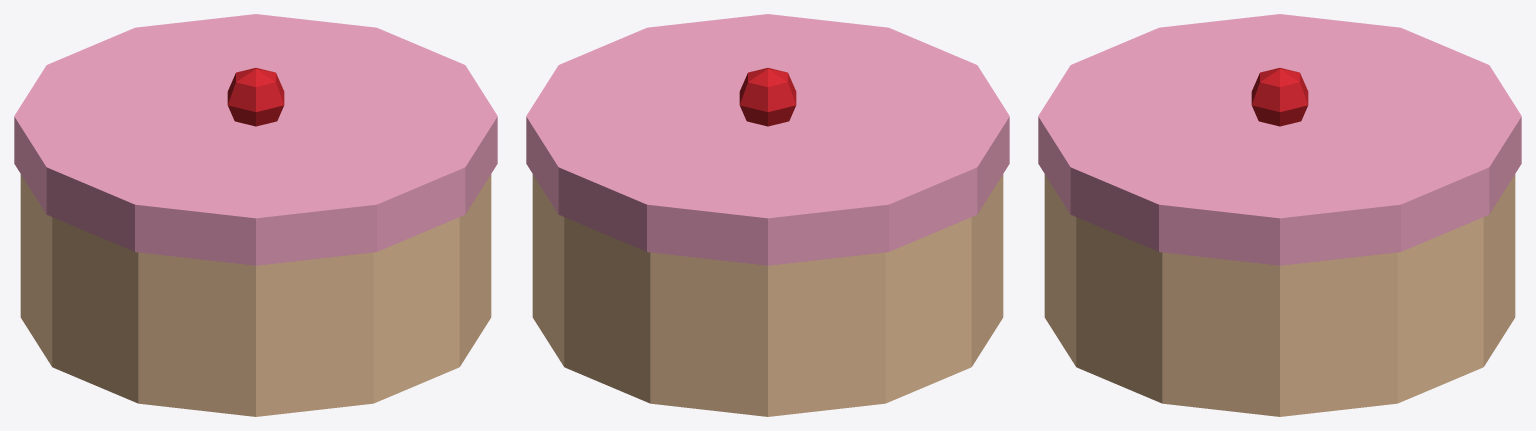
File: bakery_cake.glb
3 renders of one model, left to right at view 1: azimuth 30°, elevation 25°; view 2: azimuth 150°, elevation 25°; view 3: azimuth 270°, elevation 25°, orthographic.
Visible parts, largest first — view 1: cake_frosting, cake_sponge, cake_cherry; view 2: cake_frosting, cake_sponge, cake_cherry; view 3: cake_frosting, cake_sponge, cake_cherry.
Part boxes in pixels (x1,y1,x2,y2): cake_frosting: [14, 14, 497, 265]; cake_sponge: [20, 174, 491, 416]; cake_cherry: [227, 68, 284, 126]; cake_frosting: [526, 14, 1009, 265]; cake_sponge: [532, 174, 1003, 416]; cake_cherry: [739, 68, 796, 126]; cake_frosting: [1038, 14, 1521, 265]; cake_sponge: [1044, 174, 1515, 416]; cake_cherry: [1251, 68, 1308, 126].
Size of the model in its own units: 0.37 by 0.21 by 0.37.
